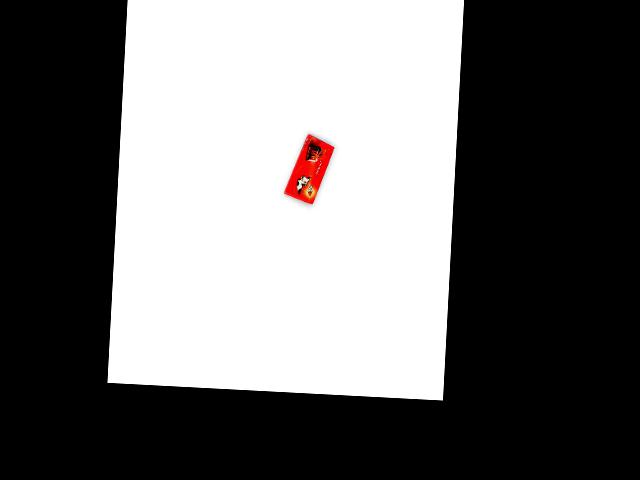chocolate: (283, 132, 336, 204)
